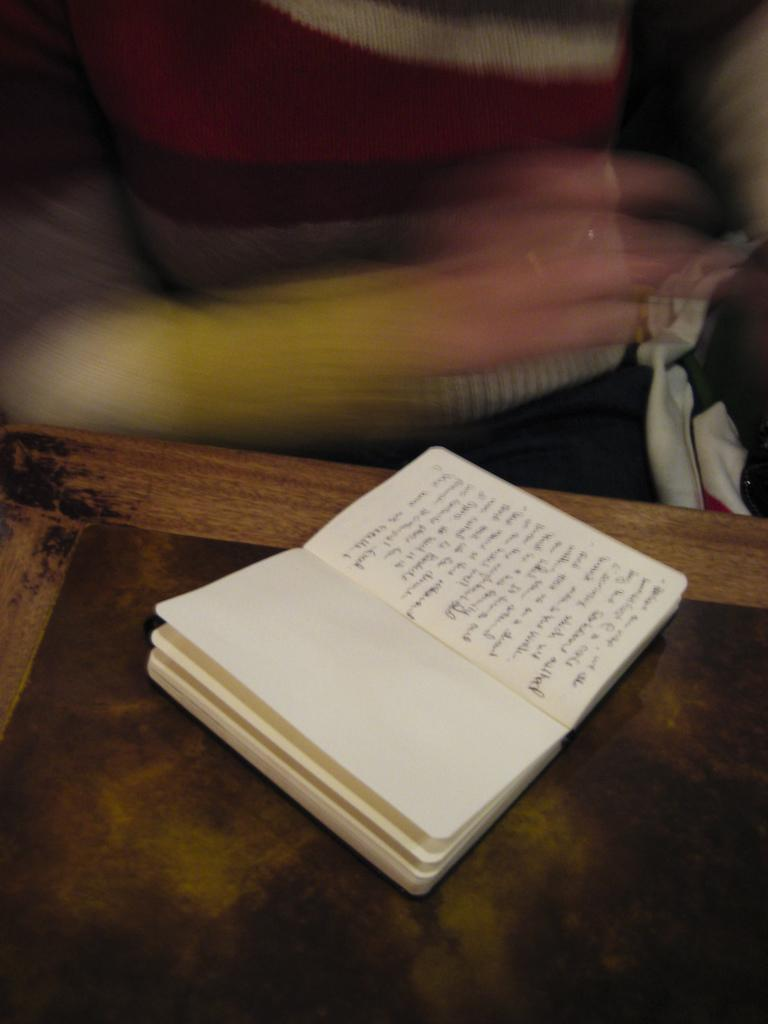book: (168, 468, 659, 850)
